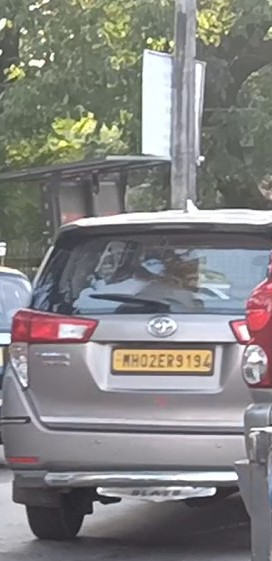MH02ER9194: (111, 347, 213, 374)
